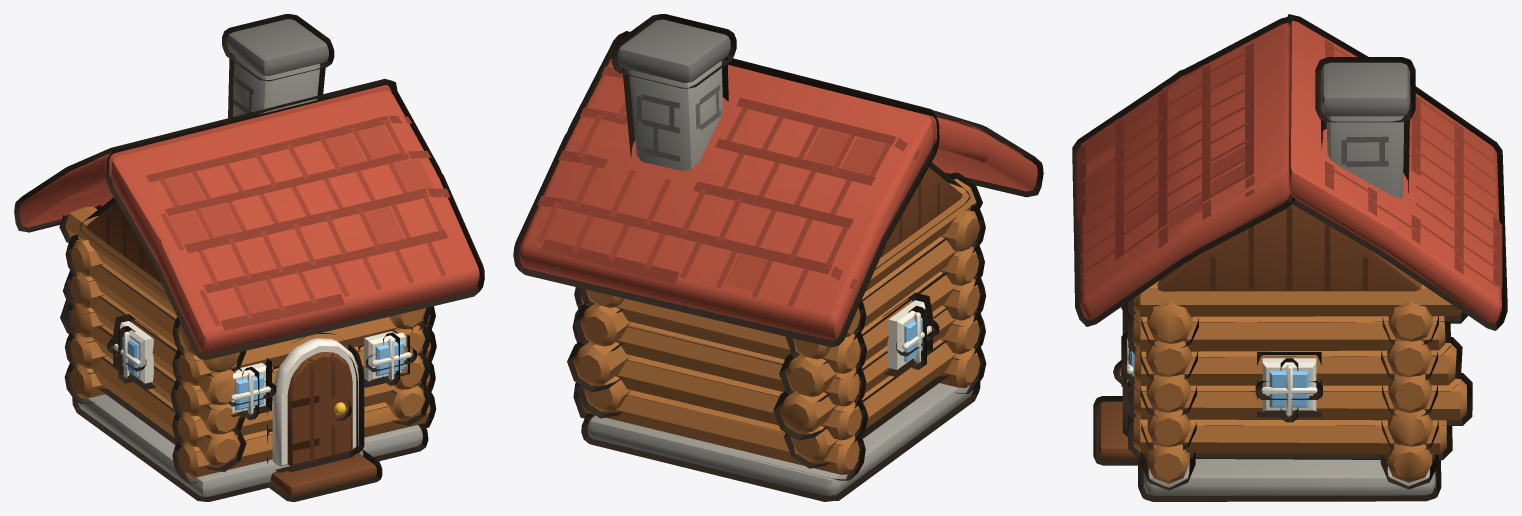
File: house-2.glb
3 renders of one model, left to right at view 1: azimuth 30°, elevation 25°; view 2: azimuth 150°, elevation 25°; view 3: azimuth 270°, elevation 25°, orthographic. The views are drawn at different scales.
Visible parts, largest first — view 1: house-2; view 2: house-2; view 3: house-2.
Boxes of the visible parts, left/top/right/bottom form: house-2: left=14, top=14, right=484, bottom=501; house-2: left=513, top=14, right=1043, bottom=501; house-2: left=1072, top=14, right=1507, bottom=501.
Bounding box in the file's own units: 3.02 × 3.51 × 3.43.
